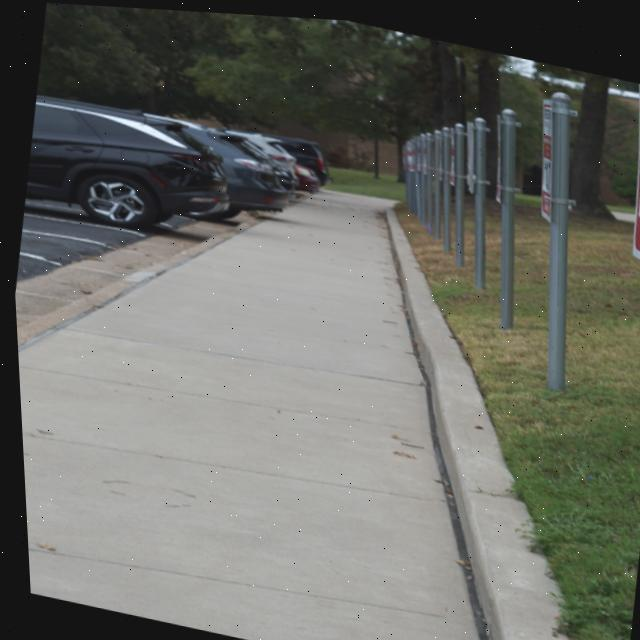Automobile: (24, 96, 227, 227), (183, 126, 291, 215), (225, 128, 297, 182), (265, 133, 330, 182), (294, 161, 319, 188)
Road: (12, 208, 249, 340)
Sidewalk: (14, 191, 473, 640)
